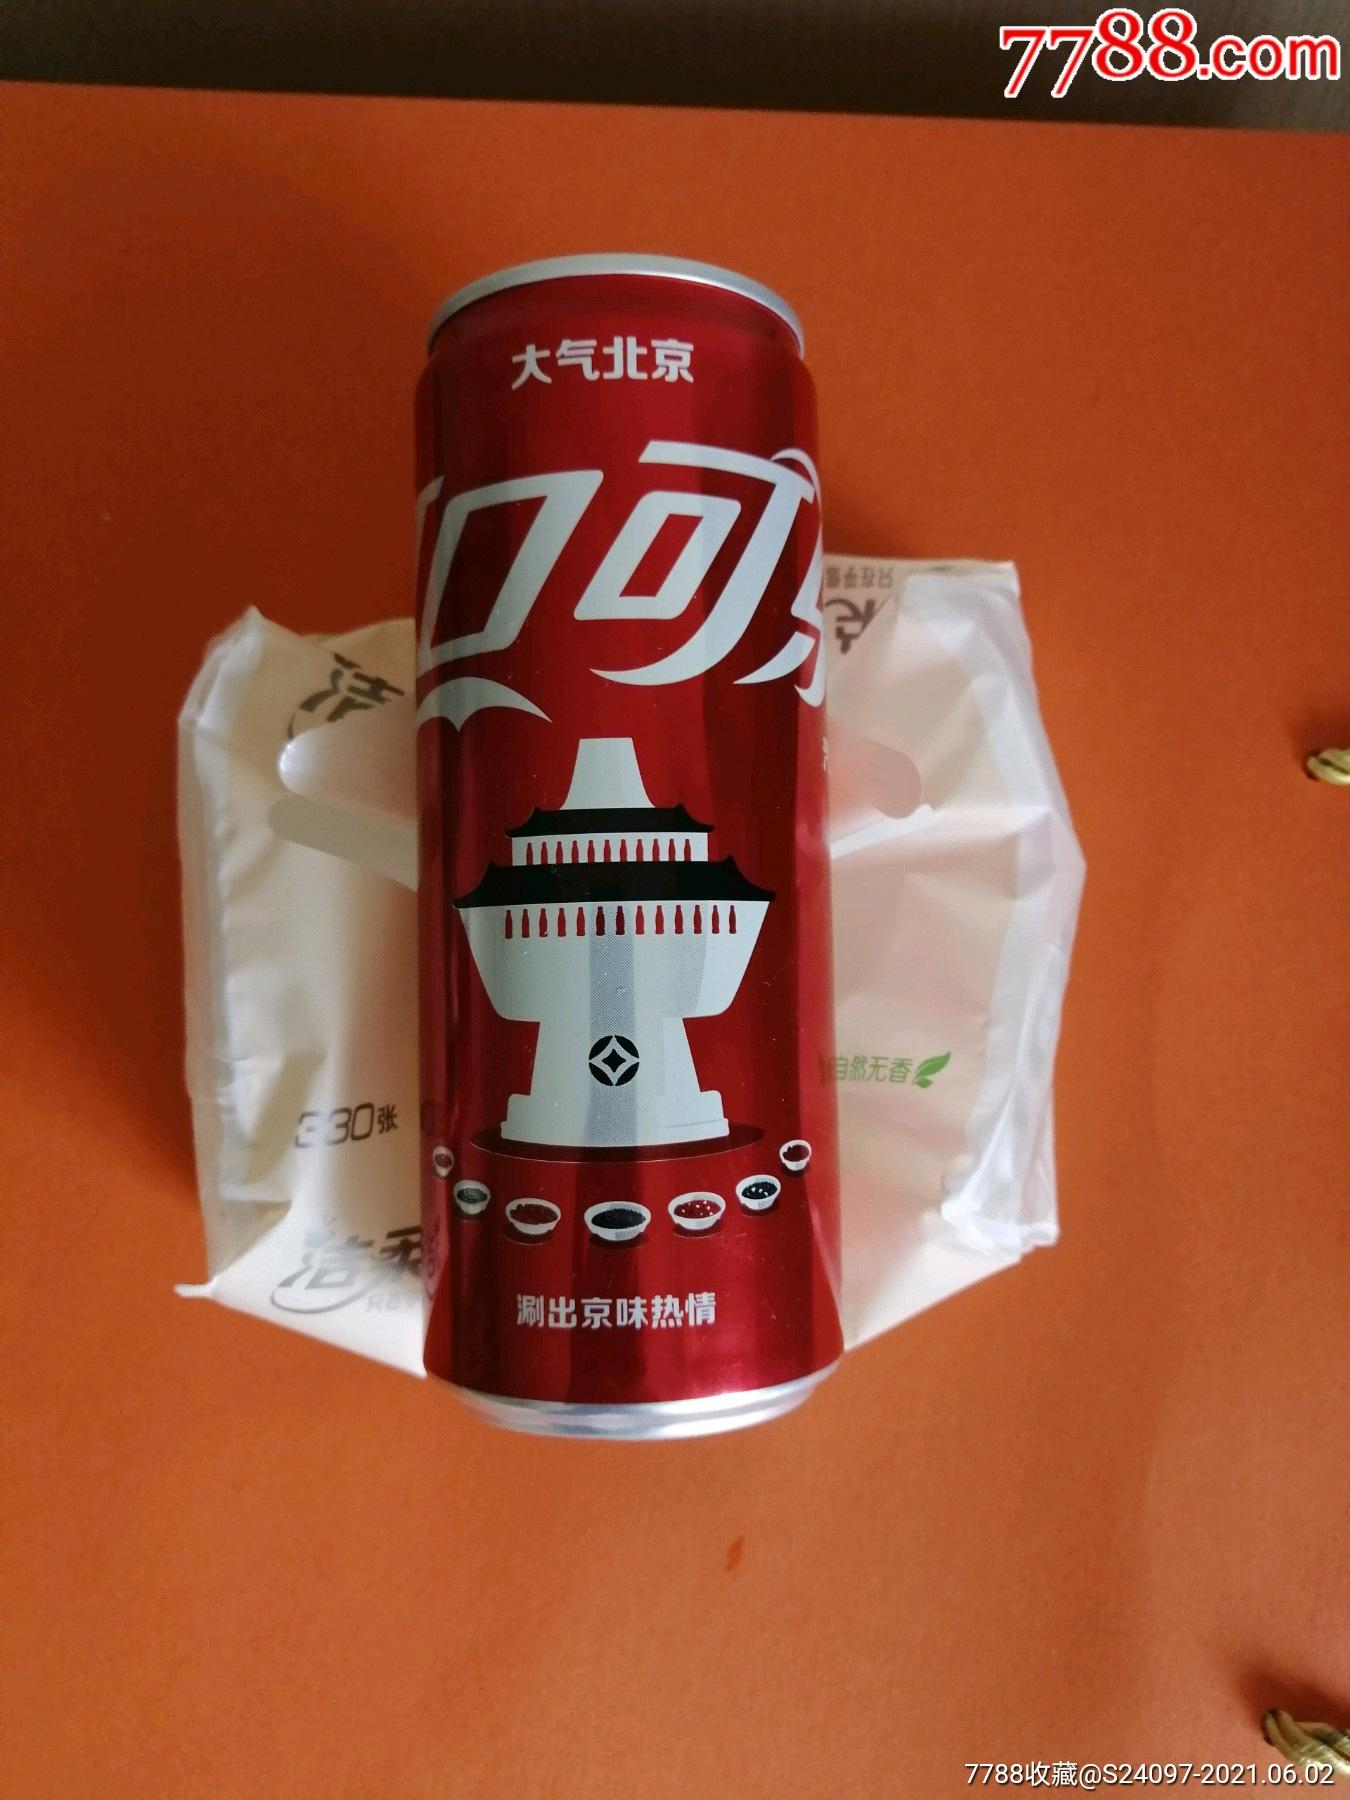metal: (415, 254, 842, 1437), (179, 611, 423, 1371)
